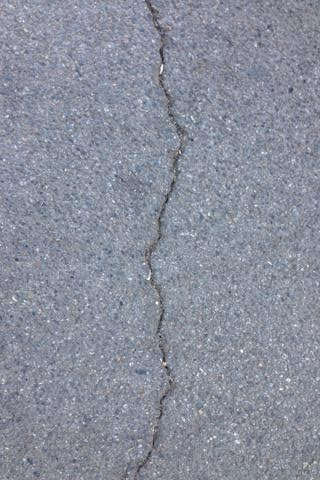A: (129, 2, 194, 480)
